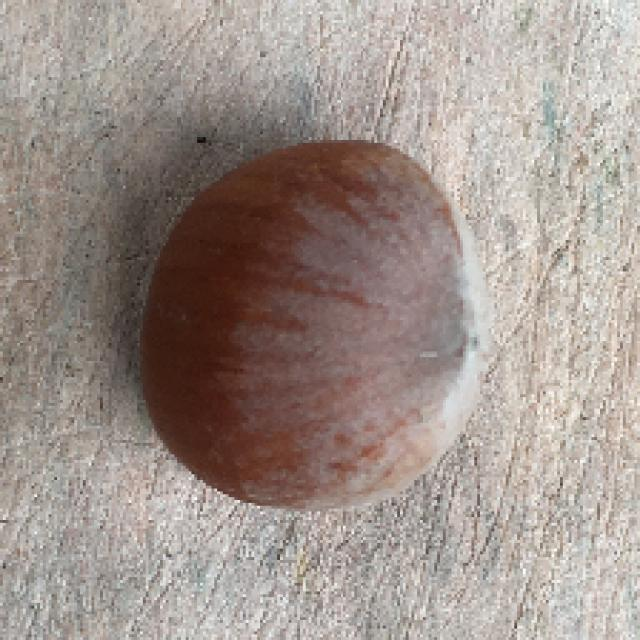qualityHazelnut: (130, 128, 494, 518)
